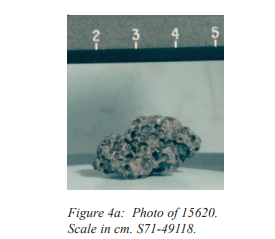Basalt: (92, 105, 209, 179)
